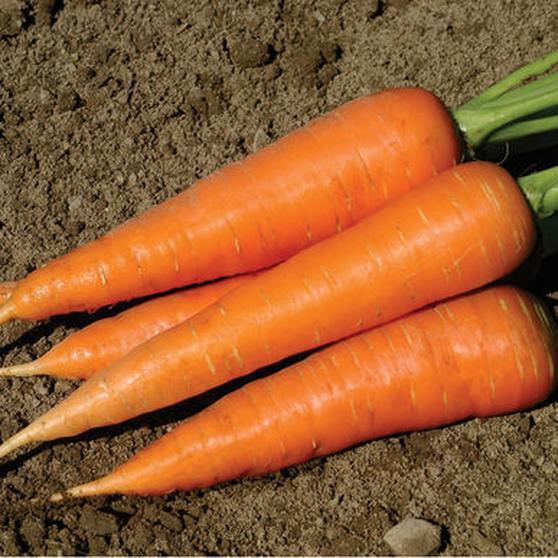carrot: (44, 291, 545, 520), (32, 64, 460, 312)
